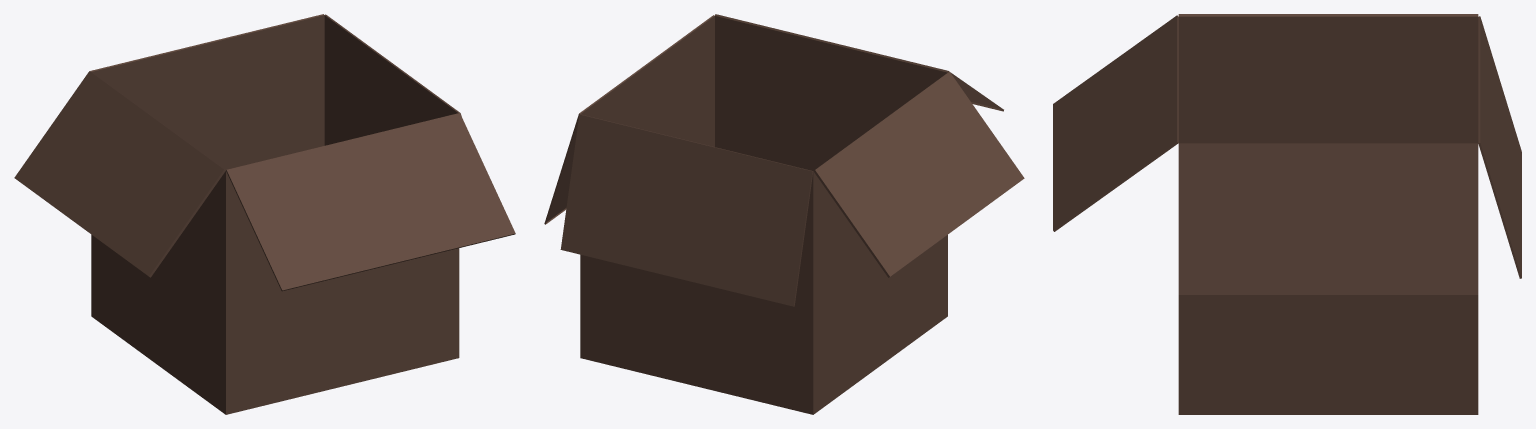
The model's file is Boxopen_01.fbx.
The picture shows the model from 3 angles, left to right: view 1: azimuth 30°, elevation 25°; view 2: azimuth 150°, elevation 25°; view 3: azimuth 270°, elevation 25°; orthographic projection. The views are drawn at different scales.
Visible parts, largest first — view 1: pasted__pCube1; view 2: pasted__pCube1; view 3: pasted__pCube1.
Boxes of the visible parts, left/top/right/bottom form: pasted__pCube1: left=14, top=14, right=515, bottom=414; pasted__pCube1: left=544, top=14, right=1024, bottom=414; pasted__pCube1: left=1053, top=14, right=1521, bottom=414.
Bounding box in the file's own units: 148 × 101 × 156.
